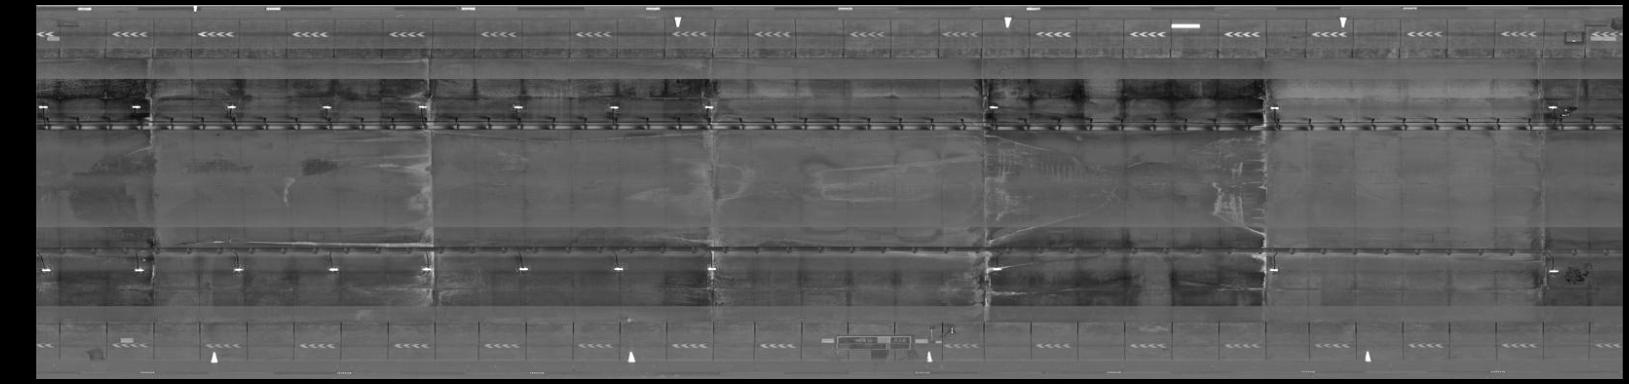light: (604, 99, 621, 113), (230, 264, 249, 276), (608, 263, 627, 275), (223, 101, 244, 112), (127, 102, 146, 113), (413, 102, 433, 113), (987, 264, 1011, 273), (1264, 265, 1285, 275), (699, 264, 722, 273), (1543, 101, 1561, 112), (318, 102, 338, 112), (130, 266, 152, 275), (1545, 266, 1563, 277), (509, 102, 528, 112), (1265, 103, 1282, 114), (418, 265, 437, 274), (700, 102, 718, 112), (987, 101, 1002, 113), (41, 264, 55, 275), (514, 264, 531, 273), (37, 101, 50, 112), (324, 266, 343, 273)
